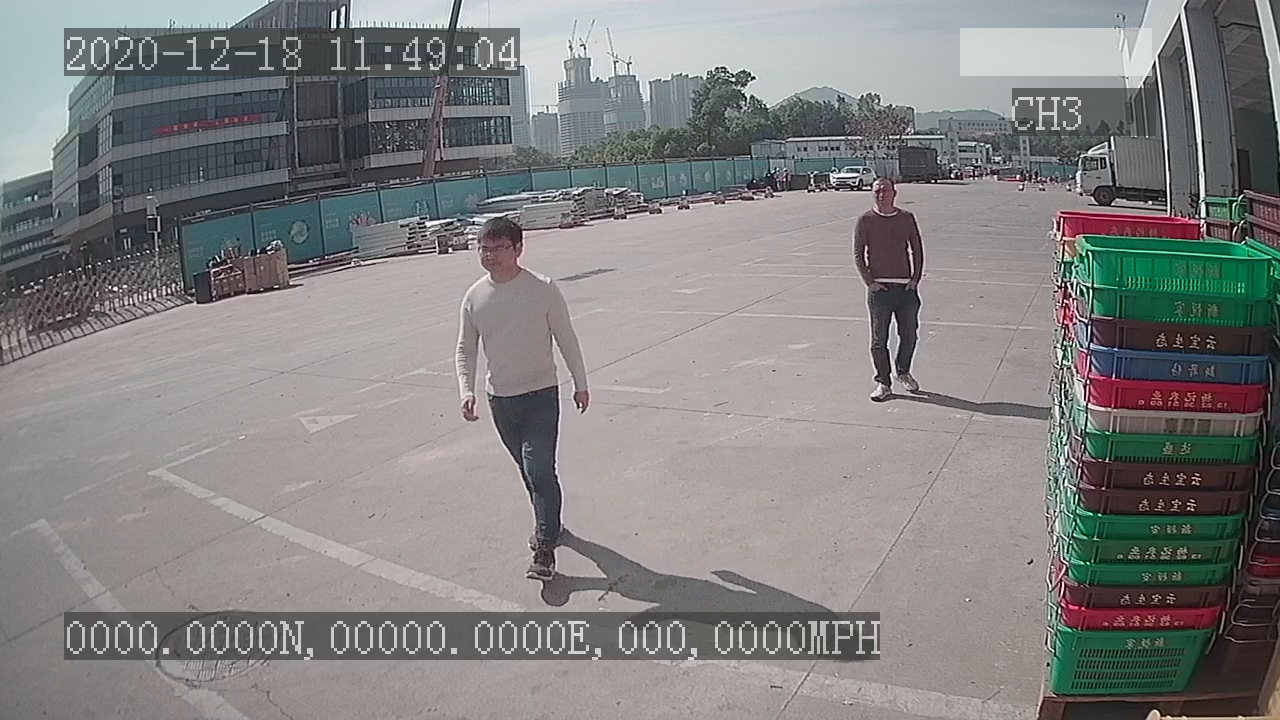person: (451, 213, 595, 592), (849, 172, 926, 408)
